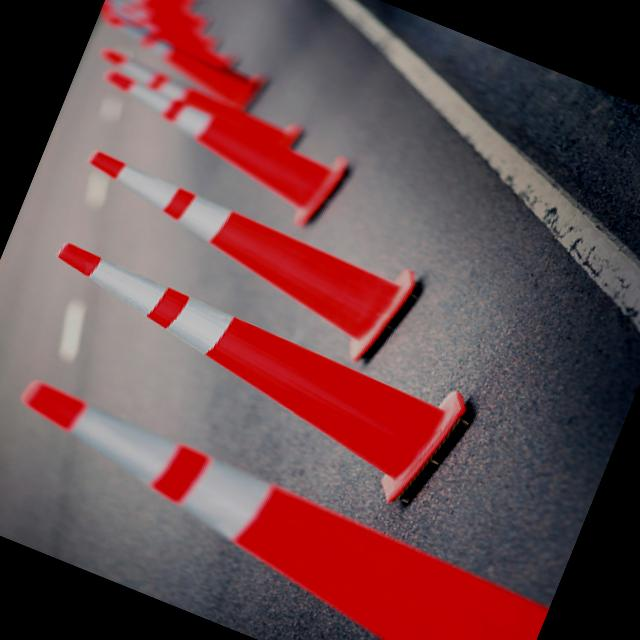cone: (0, 363, 559, 640), (2, 220, 478, 510), (48, 130, 443, 358), (70, 58, 362, 226)
